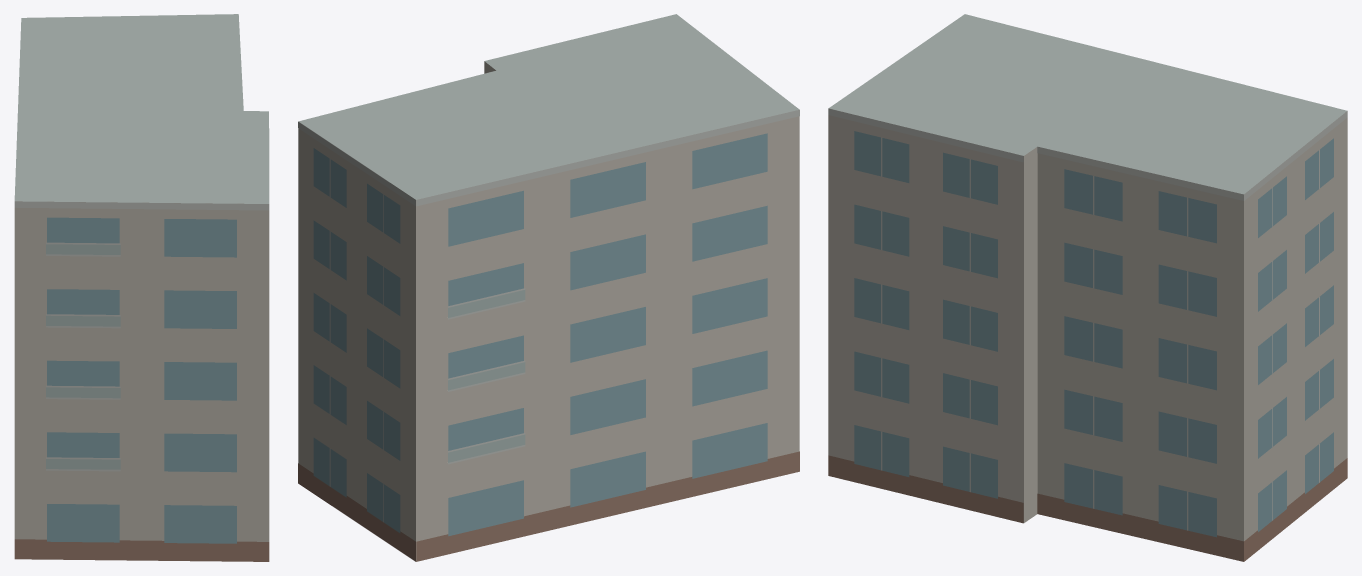
The model's file is survey-upis-32811329.glb.
3 renders of one model, left to right at view 1: azimuth 30°, elevation 25°; view 2: azimuth 150°, elevation 25°; view 3: azimuth 270°, elevation 25°, orthographic. The views are drawn at different scales.
Visible parts, largest first — view 1: survey-upis-32811329.tmp; view 2: survey-upis-32811329.tmp; view 3: survey-upis-32811329.tmp.
Part boxes in pixels (box(x1,y1,x2,y2)): survey-upis-32811329.tmp: box(14, 14, 269, 561); survey-upis-32811329.tmp: box(298, 14, 799, 561); survey-upis-32811329.tmp: box(828, 14, 1347, 561).
Size of the model in its own units: 14.33 by 13.6 by 17.42.
